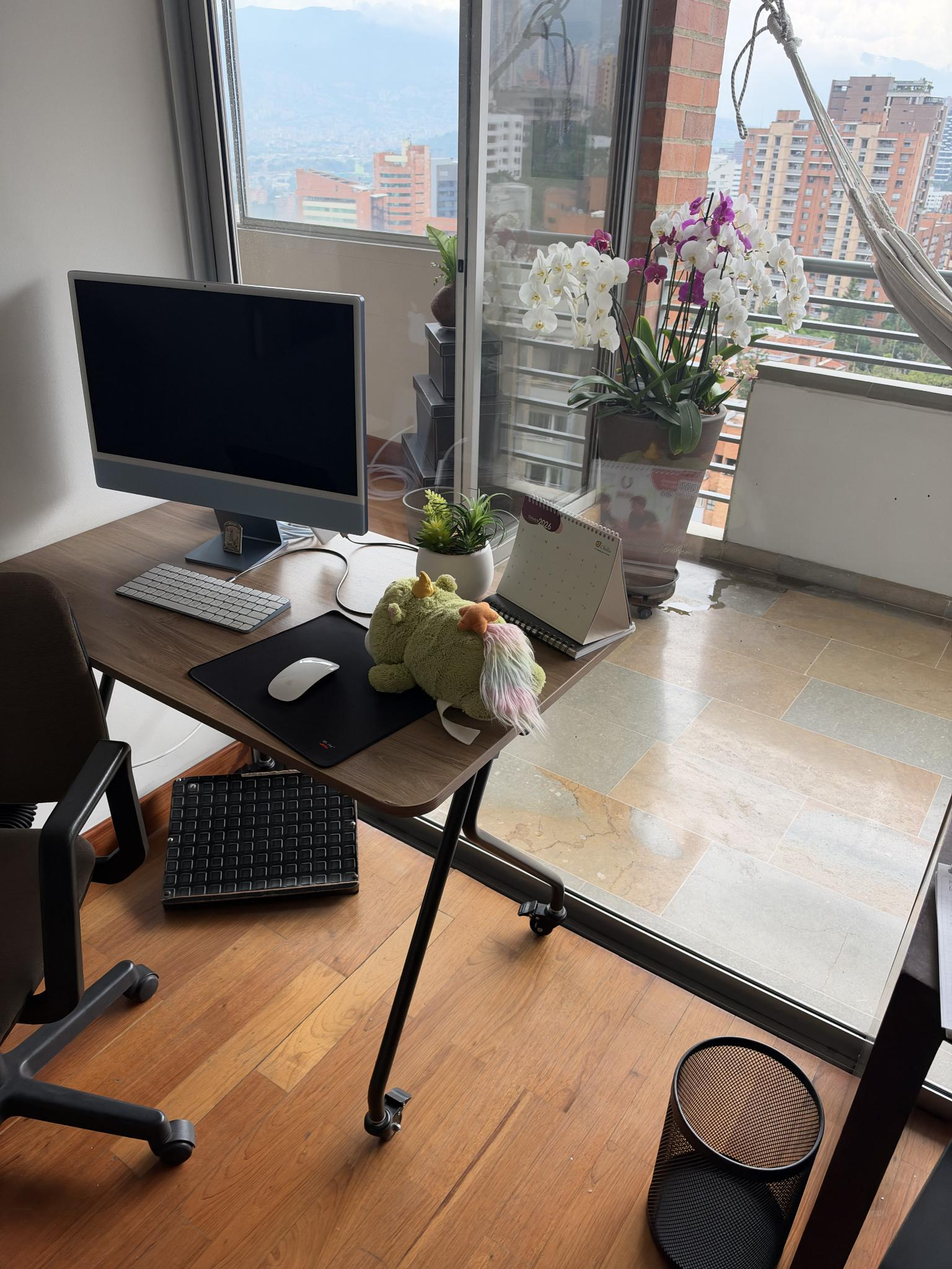peluche_martin: (364, 570, 552, 746)
